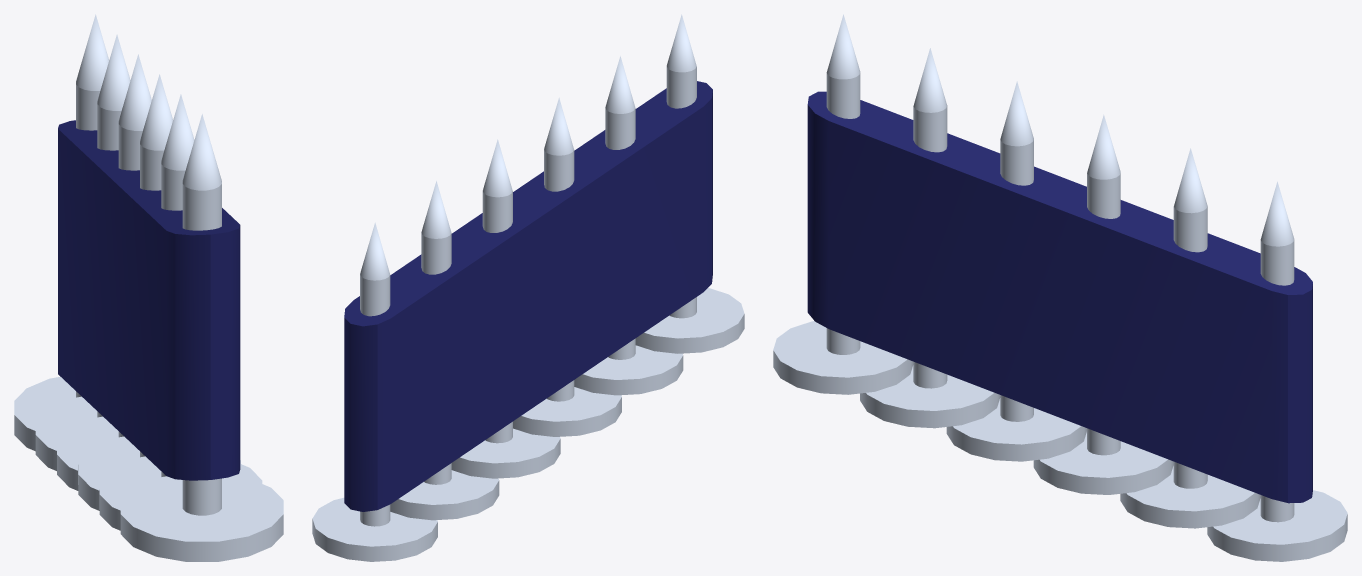
Rendered from nails.fbx.
3 views of the same model, side by side, from view 1: azimuth 30°, elevation 25°; view 2: azimuth 150°, elevation 25°; view 3: azimuth 270°, elevation 25° (orthographic). The views are drawn at different scales.
Visible parts, largest first — view 1: nails; view 2: nails; view 3: nails.
Boxes of the visible parts, left/top/right/bottom form: nails: left=14, top=14, right=283, bottom=561; nails: left=312, top=14, right=744, bottom=561; nails: left=773, top=14, right=1347, bottom=561.
Bounding box in the file's own units: 5.79 × 10.17 × 11.6.
